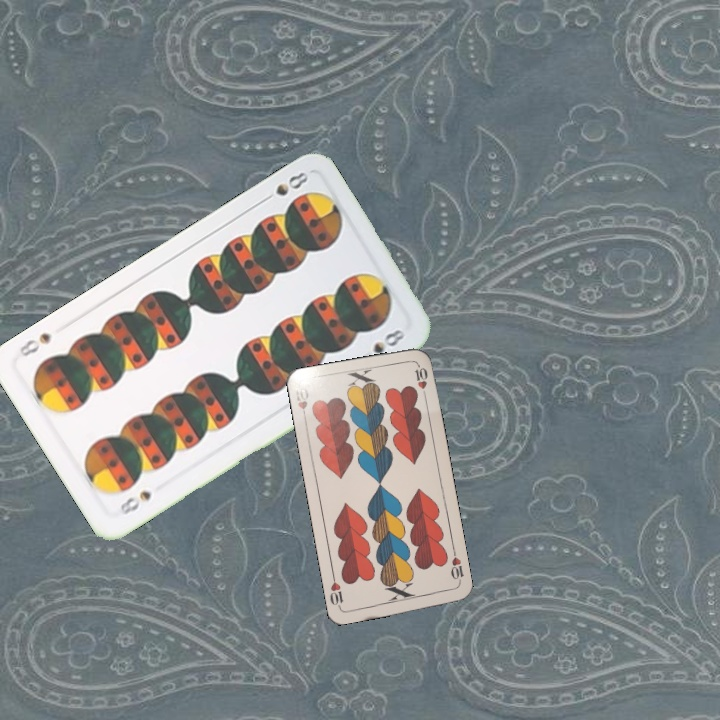H10: (290, 382, 311, 423), (447, 547, 466, 587)
S8: (257, 167, 312, 206), (115, 486, 155, 518)
